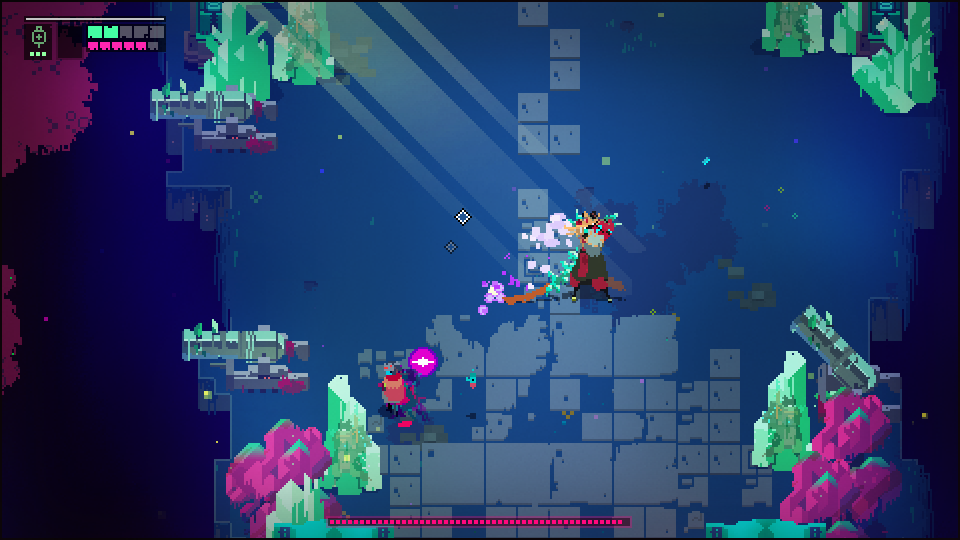hanged_man: (535, 209, 627, 303)
hanged_shot: (408, 345, 440, 378)
player: (375, 359, 408, 418)
